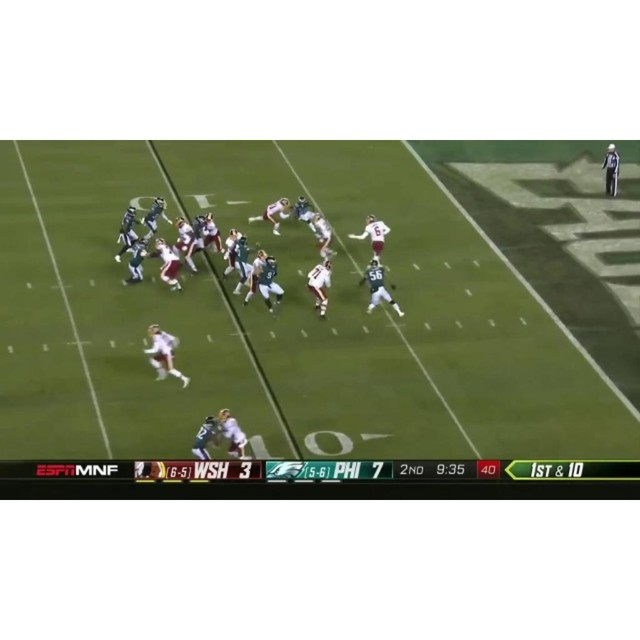american-football-player: (144, 324, 190, 388), (361, 258, 404, 318), (349, 214, 392, 265), (149, 238, 184, 294), (218, 407, 250, 459), (258, 256, 285, 317), (249, 198, 292, 236), (306, 259, 333, 319), (173, 218, 200, 275), (121, 237, 150, 287), (140, 197, 171, 243), (114, 205, 139, 262), (308, 212, 335, 262), (191, 415, 219, 460), (200, 213, 224, 255)
referee: (600, 143, 622, 199)
